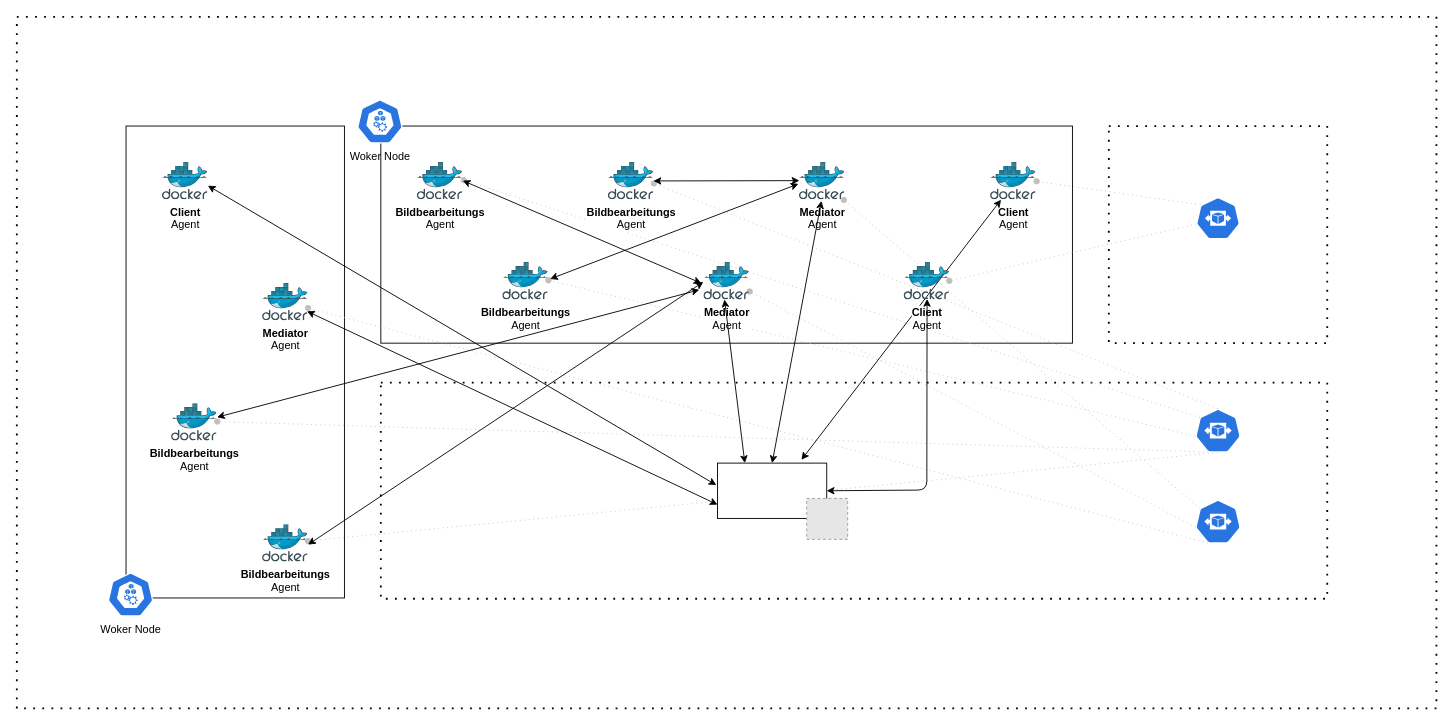
The diagram is 1452 pixels wide and 724 high, and some of its shapes have lost their labels. Grey dashed boxes stand in for pictures. The box of each missing label's shape, as (x1, y1, x2, y2) in pixels:
Horizontal Pod Autoscaler BA: (1194, 408, 1241, 452)
Horizontal Pod Autoscaler CA: (1195, 195, 1240, 240)
Horizontal Pod Autoscaler MA: (1194, 499, 1241, 543)
Mediator Service Laodbalancer: (717, 462, 827, 518)
